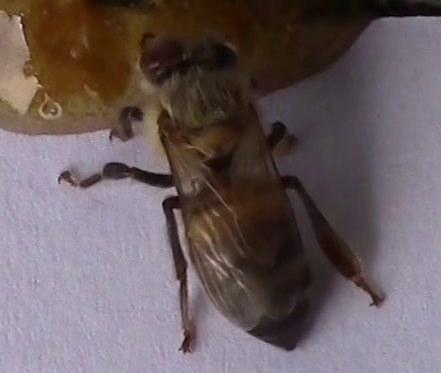Varroa destructor: (136, 37, 187, 74)
